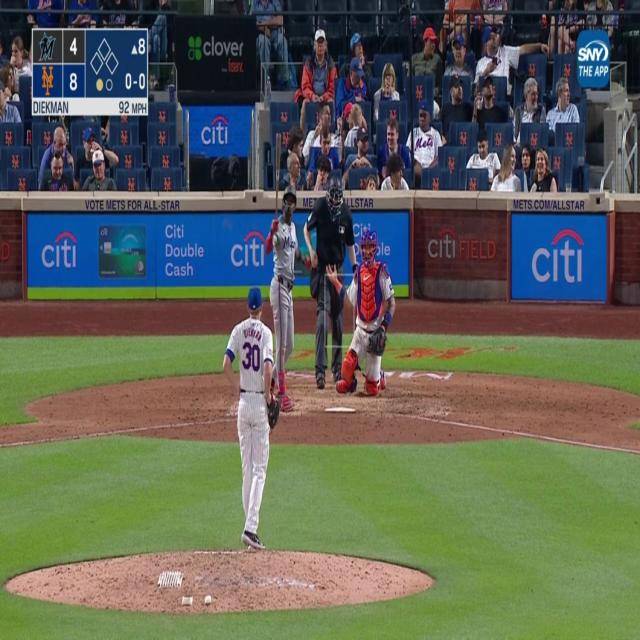Player: (222, 285, 290, 552)
